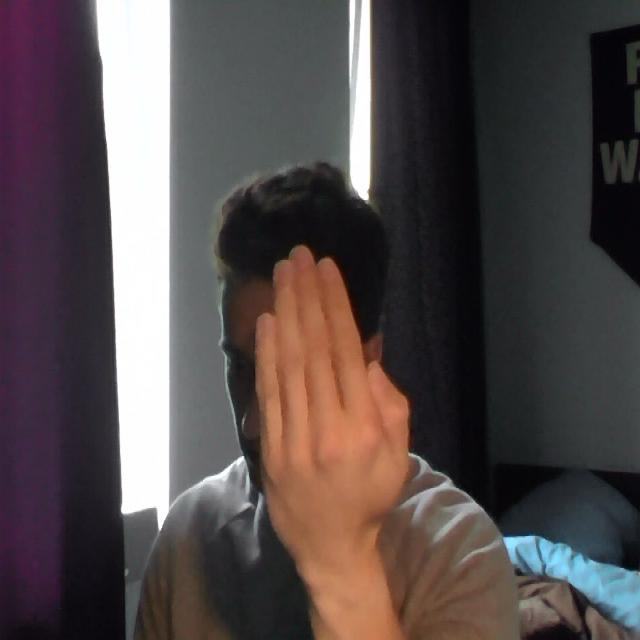forward: (250, 211, 423, 556)
